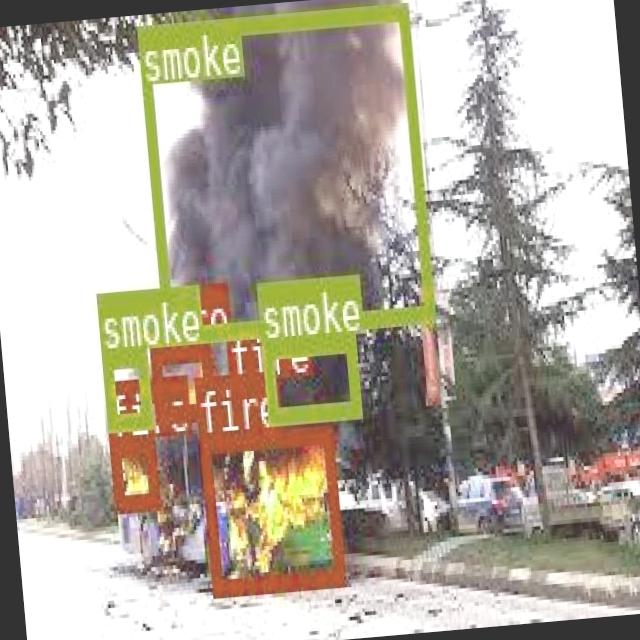fire: (198, 422, 342, 594), (147, 342, 213, 420), (108, 436, 156, 509), (228, 379, 250, 416)
smoke: (135, 0, 433, 340), (260, 333, 358, 420), (100, 348, 150, 427)
